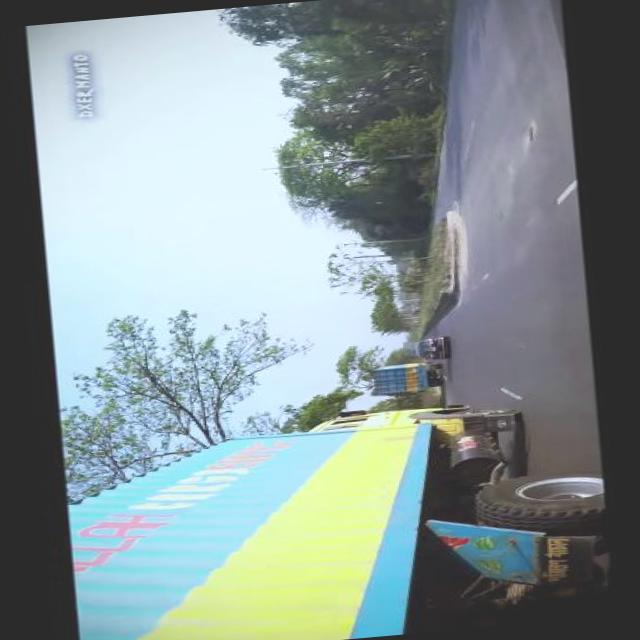car: (410, 334, 450, 362)
truck: (60, 386, 608, 640), (368, 358, 444, 396)
